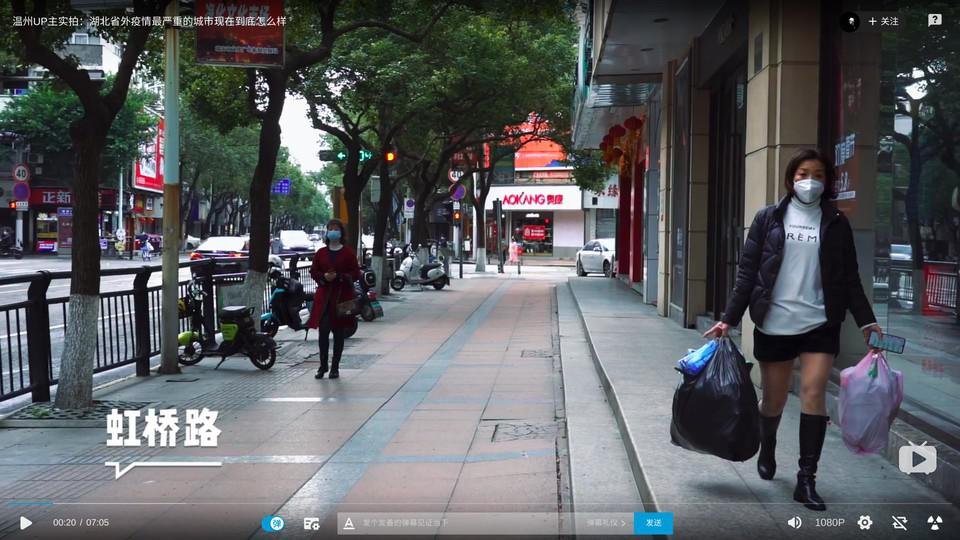OK: (794, 165, 828, 205), (328, 225, 343, 242)
